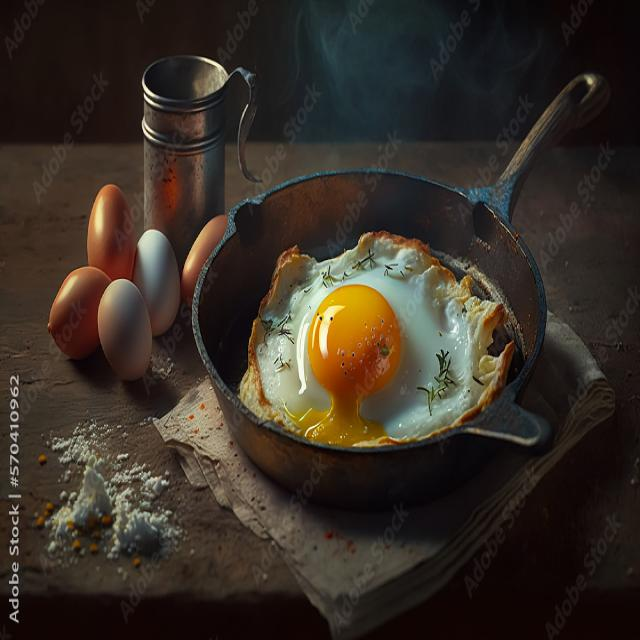Egg: (239, 232, 514, 447)
